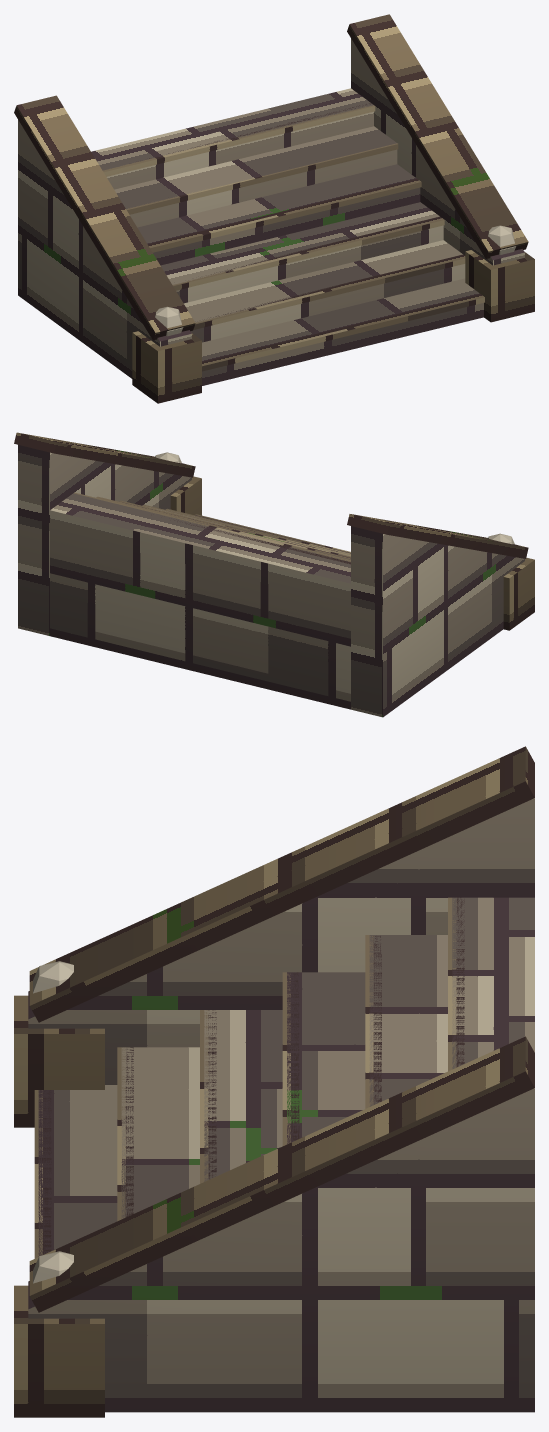
File: scene_stair_dais.glb
The picture shows the model from 3 angles, top to bottom: view 1: azimuth 30°, elevation 25°; view 2: azimuth 150°, elevation 25°; view 3: azimuth 270°, elevation 25°; orthographic projection. The views are drawn at different scales.
Visible parts, largest first — view 1: scene_stair_dais; view 2: scene_stair_dais; view 3: scene_stair_dais.
Part boxes in pixels (left/top/right/bottom): scene_stair_dais: left=14, top=14, right=534, bottom=403; scene_stair_dais: left=14, top=432, right=534, bottom=717; scene_stair_dais: left=14, top=746, right=534, bottom=1417.
Size of the model in its own units: 3.76 by 1.84 by 2.52.
Materials: 2 (1 with a texture image).
